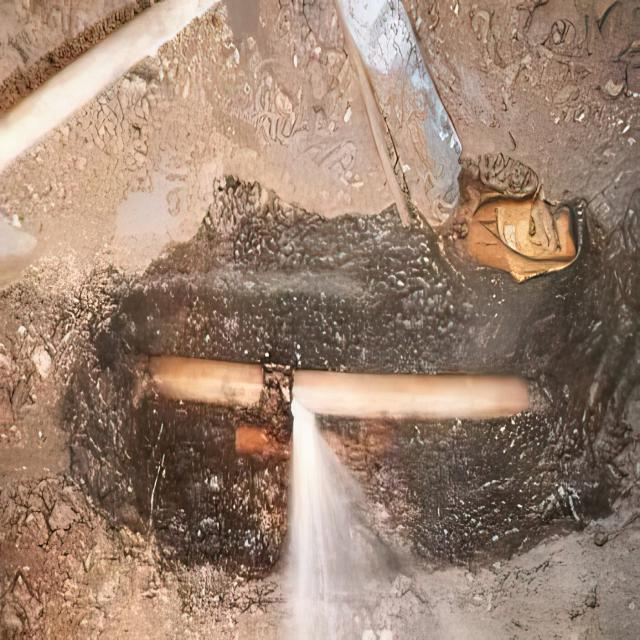leak: (286, 397, 400, 640)
